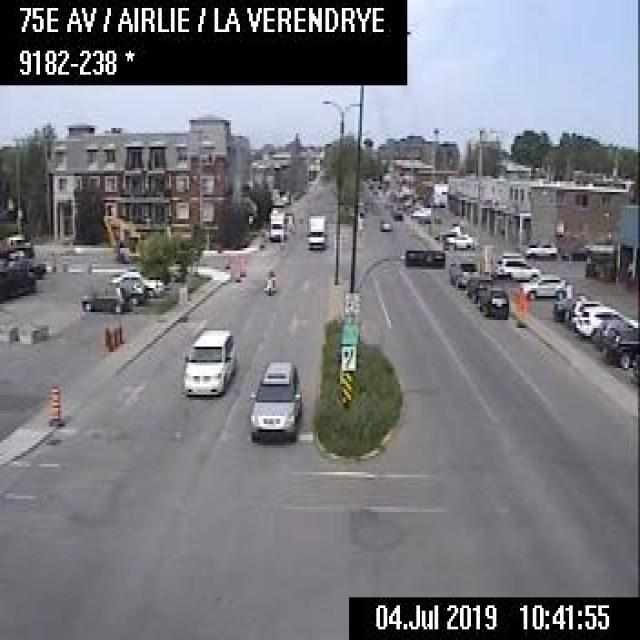construction: (102, 210, 141, 263), (45, 381, 62, 427), (515, 288, 528, 320), (232, 254, 240, 281), (238, 254, 245, 275), (107, 326, 113, 349), (113, 322, 119, 344), (102, 323, 108, 344), (222, 251, 229, 266)
vehicle: (246, 358, 300, 439), (180, 322, 233, 394), (574, 304, 636, 335), (599, 319, 637, 368), (106, 268, 161, 296), (77, 284, 129, 312), (517, 272, 565, 298), (498, 253, 539, 281), (552, 292, 590, 322), (477, 286, 509, 318), (447, 254, 478, 287), (306, 208, 326, 251), (520, 237, 560, 256), (464, 273, 492, 299), (267, 206, 284, 246), (445, 231, 476, 250), (262, 267, 276, 293), (378, 215, 392, 232), (391, 205, 403, 219)
